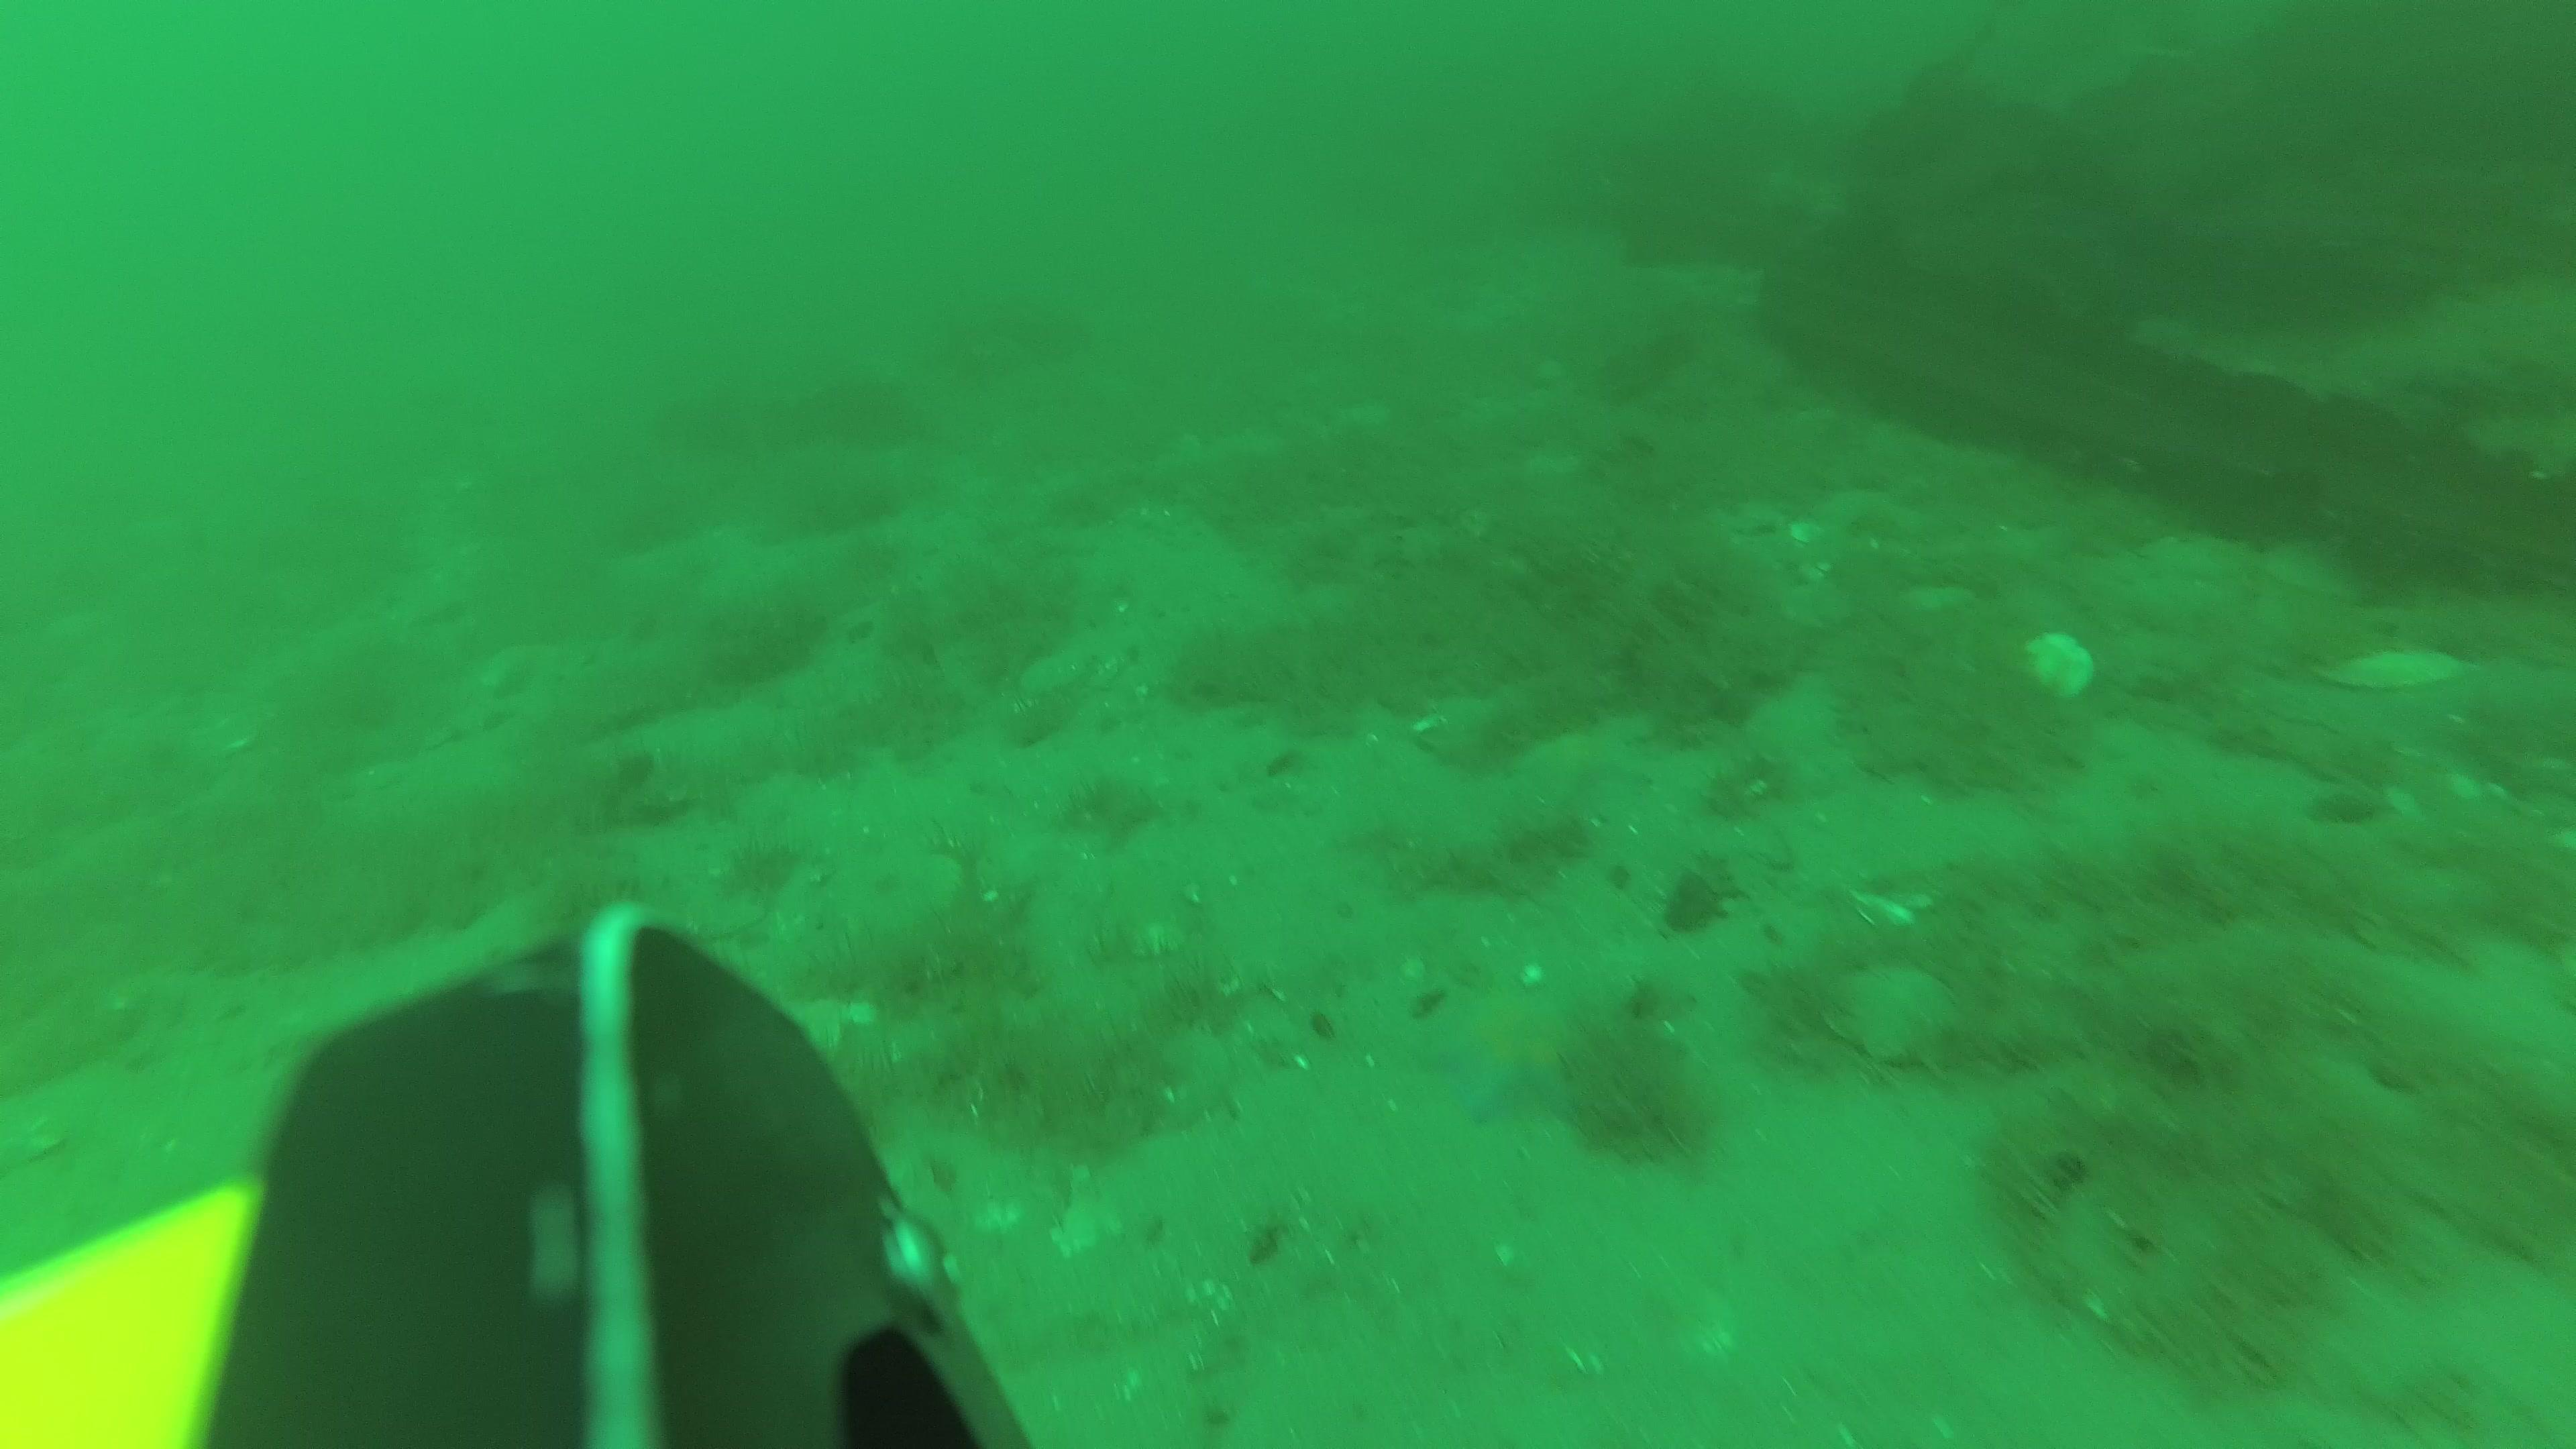scallop: (1826, 962, 1955, 1065), (2323, 642, 2466, 686), (2020, 623, 2097, 701)
starfish: (1433, 1017, 1587, 1122), (1516, 722, 1645, 796)
